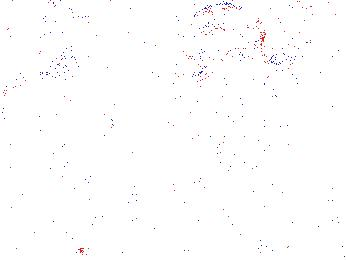moon jellyfish: (259, 4, 340, 67), (181, 4, 266, 63), (1, 4, 50, 97)
